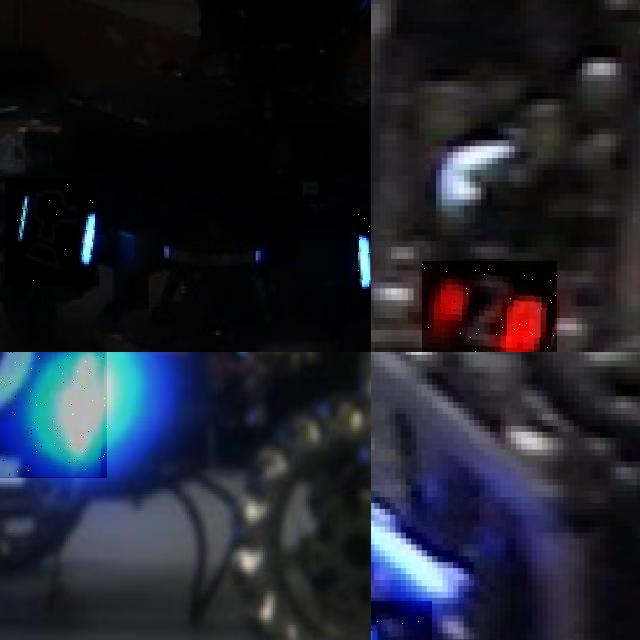B2: (0, 352, 107, 479), (371, 600, 432, 640)
Bs: (5, 178, 95, 286)
R2: (422, 261, 556, 352)
